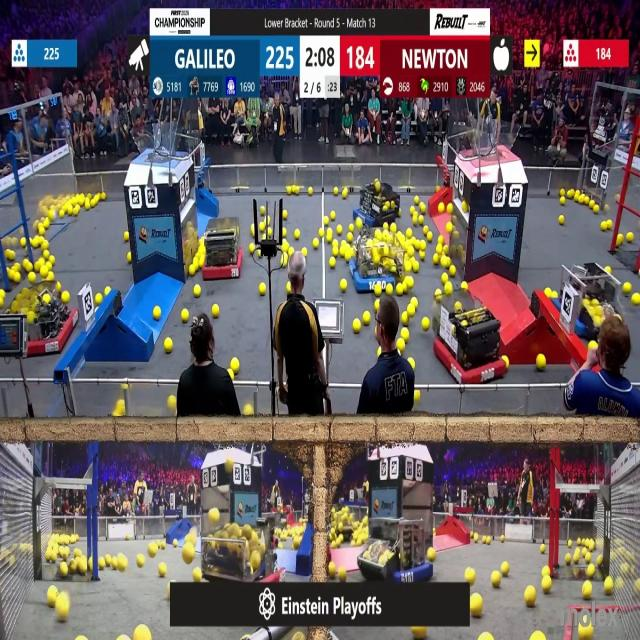ball_airborne: (210, 509, 219, 524)
ball_ground: (58, 598, 70, 623), (469, 594, 481, 616), (525, 586, 536, 607), (46, 588, 56, 608), (136, 627, 150, 640), (583, 582, 593, 600), (183, 547, 194, 563), (114, 403, 124, 418), (492, 571, 501, 587), (536, 354, 545, 369), (465, 568, 474, 583), (541, 579, 550, 594), (604, 580, 612, 596), (117, 556, 126, 570), (232, 358, 240, 372), (354, 319, 362, 333), (169, 395, 177, 409), (339, 567, 347, 581), (61, 563, 69, 577), (328, 563, 336, 577), (25, 262, 34, 274), (160, 563, 168, 576), (588, 565, 596, 578), (427, 549, 435, 562), (78, 561, 86, 574), (244, 407, 253, 418), (212, 305, 219, 319), (166, 339, 173, 353), (192, 568, 200, 580), (362, 313, 370, 325), (396, 340, 404, 352), (445, 283, 453, 295), (624, 282, 632, 294), (12, 272, 20, 284), (153, 307, 160, 320), (501, 562, 508, 575), (258, 283, 266, 294), (632, 293, 640, 304), (406, 277, 414, 288), (62, 291, 70, 302), (6, 250, 14, 261), (572, 553, 580, 564), (181, 310, 188, 322), (422, 318, 429, 330), (341, 280, 348, 292), (138, 555, 145, 567), (401, 314, 408, 326), (29, 272, 36, 284), (282, 240, 289, 252), (149, 546, 156, 558), (532, 633, 544, 640), (403, 262, 410, 274), (395, 284, 403, 294), (442, 256, 450, 266), (627, 233, 634, 244), (435, 288, 442, 299), (401, 328, 408, 339), (387, 284, 394, 295), (99, 559, 106, 570), (188, 266, 195, 277), (618, 235, 625, 246), (586, 553, 593, 564), (40, 268, 47, 279), (193, 285, 199, 297), (329, 256, 335, 268), (32, 239, 40, 248), (481, 634, 493, 640), (541, 566, 548, 576), (375, 286, 382, 296), (331, 246, 338, 256), (447, 222, 454, 232), (413, 263, 420, 273), (409, 307, 416, 317), (355, 218, 362, 228), (450, 267, 456, 278), (286, 282, 292, 293), (543, 288, 550, 297), (590, 342, 597, 351), (92, 199, 99, 208), (389, 223, 396, 232), (96, 293, 102, 303), (432, 254, 438, 264), (412, 296, 418, 306), (374, 302, 380, 312), (282, 210, 288, 220), (414, 391, 420, 401), (325, 232, 331, 242), (341, 246, 347, 256), (440, 204, 446, 214), (566, 554, 572, 564), (419, 204, 425, 214), (436, 243, 442, 253), (250, 223, 256, 233), (47, 272, 53, 282), (566, 188, 572, 198), (348, 223, 355, 231), (448, 204, 453, 215), (443, 274, 449, 283), (293, 231, 299, 240), (338, 225, 344, 234), (539, 543, 545, 552), (409, 247, 415, 256), (407, 230, 413, 239), (329, 211, 335, 220), (42, 240, 48, 249), (259, 222, 265, 231), (268, 225, 274, 234), (413, 214, 419, 223), (345, 252, 351, 261), (444, 245, 450, 254), (420, 250, 425, 260), (128, 252, 133, 262), (348, 234, 353, 244), (503, 356, 508, 366), (249, 244, 254, 254), (121, 384, 128, 391), (104, 287, 110, 295), (323, 216, 329, 224), (462, 282, 468, 290), (260, 207, 266, 215), (303, 248, 309, 256), (19, 239, 25, 247), (560, 198, 566, 206), (43, 250, 49, 258), (594, 206, 600, 214), (420, 239, 426, 247), (606, 220, 612, 228), (342, 190, 348, 198), (48, 255, 54, 263), (84, 202, 90, 210), (74, 549, 80, 557), (68, 207, 74, 215), (37, 226, 43, 234), (123, 233, 128, 242), (314, 240, 319, 249), (282, 230, 287, 239), (601, 221, 606, 230), (419, 214, 424, 223), (411, 359, 416, 368), (61, 210, 66, 219), (74, 207, 79, 216), (487, 538, 492, 547), (172, 539, 178, 546), (231, 374, 237, 381), (559, 216, 564, 224), (427, 234, 432, 242), (0, 290, 5, 298), (319, 230, 324, 238), (423, 225, 428, 233), (553, 290, 558, 298), (440, 237, 445, 245), (162, 540, 167, 548), (309, 187, 314, 195), (117, 635, 125, 640), (200, 258, 205, 266), (268, 216, 273, 224), (192, 257, 197, 265), (378, 347, 382, 356), (58, 282, 62, 291), (288, 248, 293, 255), (560, 188, 565, 195), (415, 195, 420, 202), (411, 207, 415, 215), (100, 194, 104, 202), (473, 534, 477, 542), (256, 249, 260, 257), (77, 636, 85, 640), (568, 539, 572, 547), (90, 558, 94, 566), (606, 268, 611, 274), (500, 535, 504, 542)
goal: (467, 123, 521, 159), (130, 129, 190, 160)
robot_blue: (352, 226, 402, 293), (390, 522, 435, 588), (574, 267, 612, 345), (356, 178, 402, 226)
robot_red: (434, 302, 501, 384), (200, 524, 282, 589), (24, 283, 76, 353), (203, 218, 243, 278)
